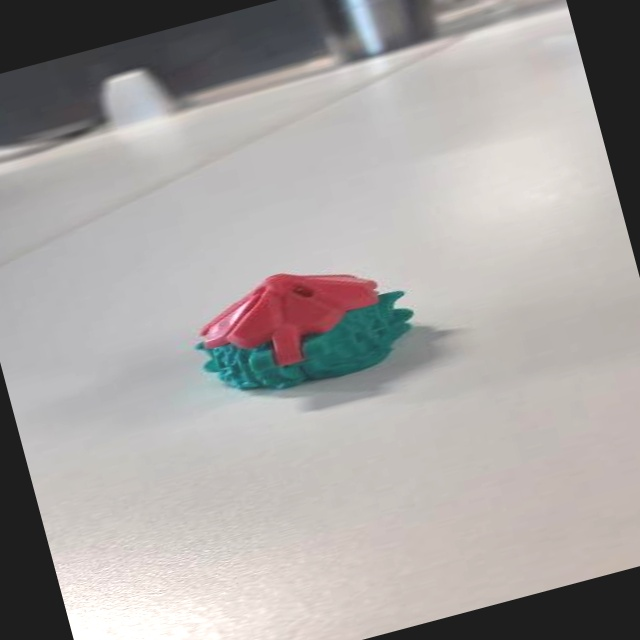House: (171, 233, 438, 415)
